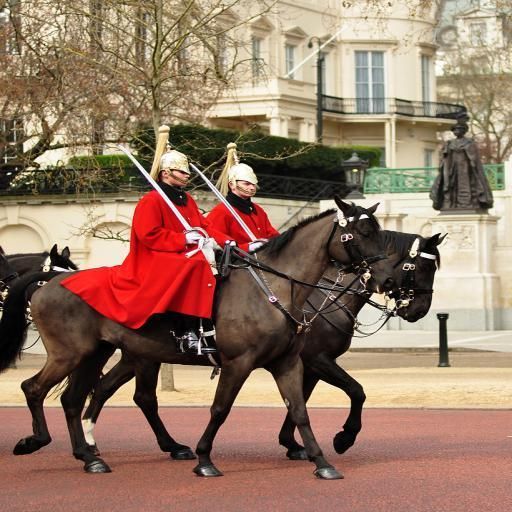horse: (42, 233, 448, 460), (8, 244, 82, 274), (0, 246, 29, 308)
